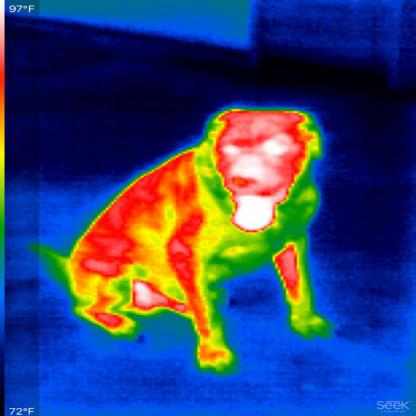dog: (69, 101, 341, 374)
